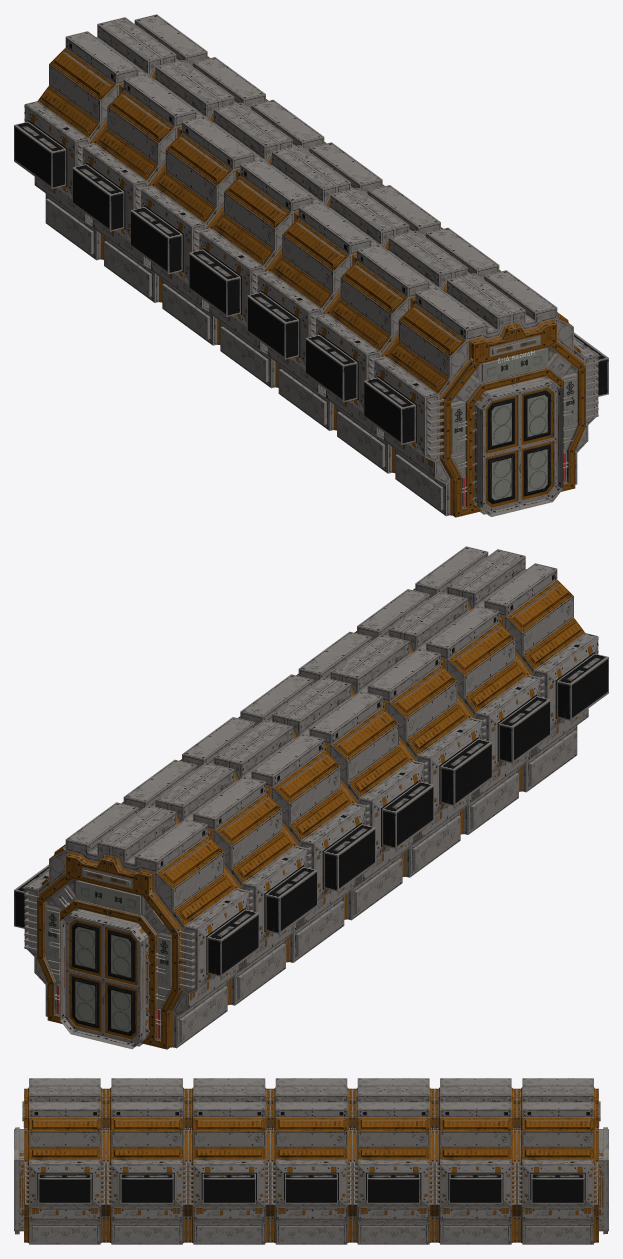
File: Cargo.FBX
The picture shows the model from 3 angles, top to bottom: view 1: azimuth 30°, elevation 25°; view 2: azimuth 150°, elevation 25°; view 3: azimuth 270°, elevation 25°; orthographic projection. The views are drawn at different scales.
Visible parts, largest first — view 1: wall12, wall01, wall09, wall07, wall03, wall11, wall05, base_ram03, base_door01, base_ram02, wall13, wall (+11 smaller); view 2: wall01, wall05, wall07, wall12, wall11, wall03, wall09, base_ram01, base_door, base_ram, wall, wall06 (+11 smaller); view 3: wall04, wall08, wall06, wall, wall02, wall10, wall13, prepazka, prepazka10, prepazka02, prepazka04, prepazka06 (+12 smaller).
Part boxes in pixels (<box>): wall12: <box>363,276,511,515</box>; wall01: <box>14,20,161,260</box>; wall09: <box>247,191,394,430</box>; wall07: <box>188,148,336,387</box>; wall03: <box>72,63,219,302</box>; wall11: <box>305,234,452,473</box>; wall05: <box>130,106,277,345</box>; base_ram03: <box>425,314,521,517</box>; base_door01: <box>472,378,563,516</box>; base_ram02: <box>511,307,598,506</box>; wall13: <box>461,270,608,396</box>; wall: <box>111,14,209,61</box>; wall01: <box>111,808,259,1047</box>; wall05: <box>228,723,375,962</box>; wall07: <box>286,680,434,919</box>; wall12: <box>461,552,608,792</box>; wall11: <box>403,595,550,834</box>; wall03: <box>170,766,317,1005</box>; wall09: <box>345,638,492,877</box>; base_ram01: <box>101,846,197,1049</box>; base_door: <box>60,910,149,1049</box>; base_ram: <box>24,839,111,1038</box>; wall: <box>14,802,161,928</box>; wall06: <box>238,674,336,721</box>; wall04: <box>357,1090,429,1244</box>; wall08: <box>193,1090,265,1244</box>; wall06: <box>275,1090,347,1244</box>; wall: <box>522,1090,593,1244</box>; wall02: <box>440,1090,511,1244</box>; wall10: <box>111,1090,182,1244</box>; wall13: <box>29,1090,100,1244</box>; prepazka: <box>511,1098,522,1242</box>; prepazka10: <box>100,1098,111,1242</box>; prepazka02: <box>429,1098,439,1242</box>; prepazka04: <box>347,1098,357,1242</box>; prepazka06: <box>265,1098,275,1242</box>.
Size of the model in its own units: 64.77 by 56.88 by 228.
